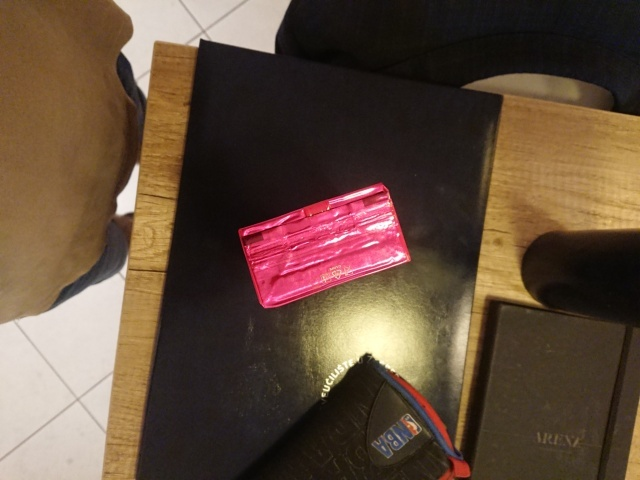Barcaffe Classic Original 225g: (236, 180, 414, 311)
